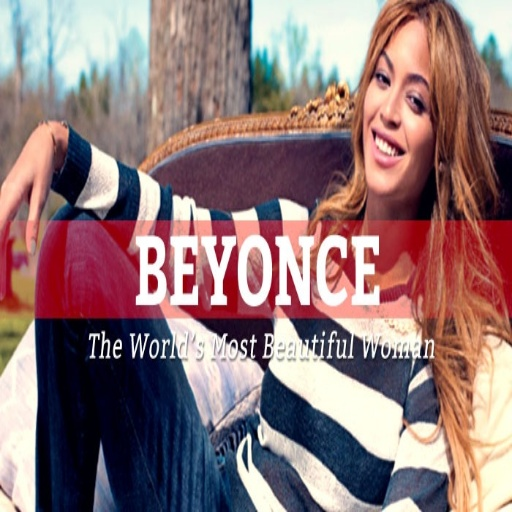hand: (2, 120, 73, 272)
